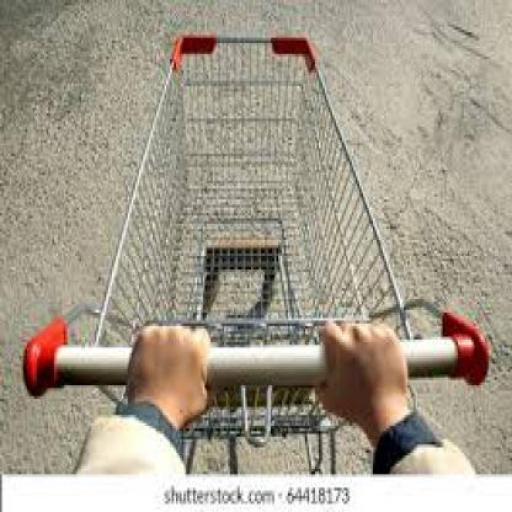shopping_cart: (18, 32, 492, 446)
